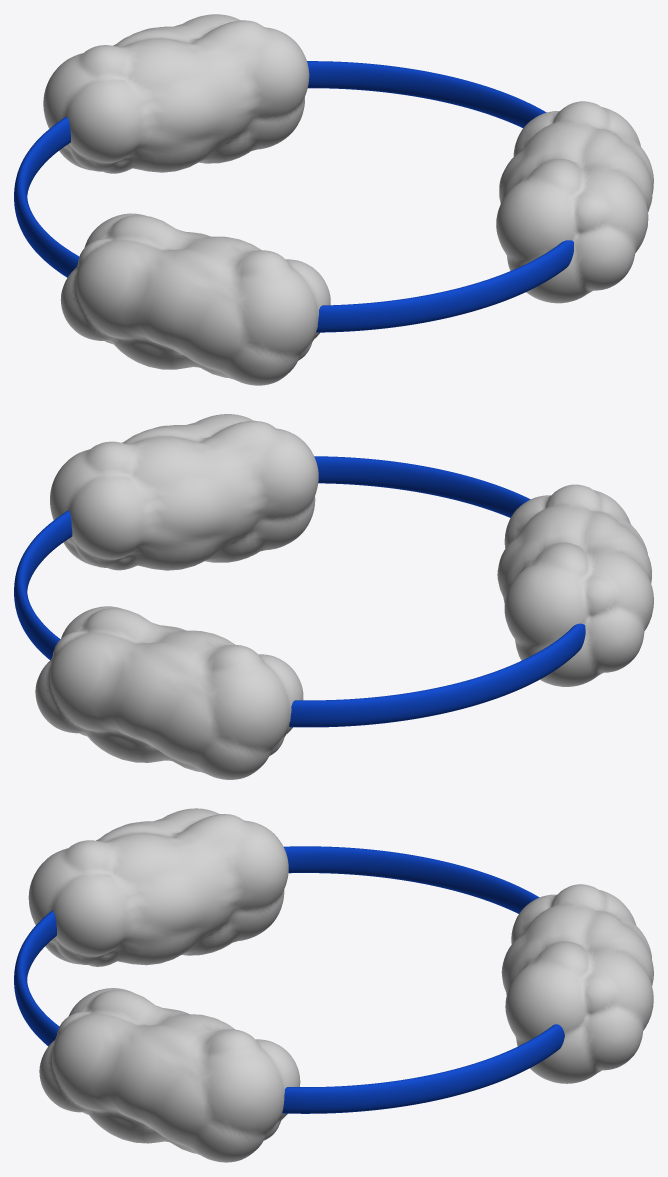
Rendered from -point ring.obj.
3 views of the same model, one above another, from view 1: azimuth 30°, elevation 25°; view 2: azimuth 150°, elevation 25°; view 3: azimuth 270°, elevation 25° (orthographic).
Visible parts, largest first — view 1: ICO球, ICO球.001, ICO球.002, 円_円.001; view 2: ICO球.002, ICO球, ICO球.001, 円_円.001; view 3: ICO球.001, ICO球.002, ICO球, 円_円.001.
Part boxes in pixels (x1,y1,x2,y2): ICO球: (43,14,309,173); ICO球.001: (60,213,330,385); ICO球.002: (496,101,653,303); 円_円.001: (14,61,573,332); ICO球.002: (50,414,318,570); ICO球: (35,606,303,779); ICO球.001: (497,484,653,686); 円_円.001: (14,456,585,727); ICO球.001: (28,808,288,966); ICO球.002: (39,988,300,1162); ICO球: (501,884,653,1083); 円_円.001: (14,846,564,1113).
Bounding box in the file's own units: 9.96 × 2.19 × 9.73.
